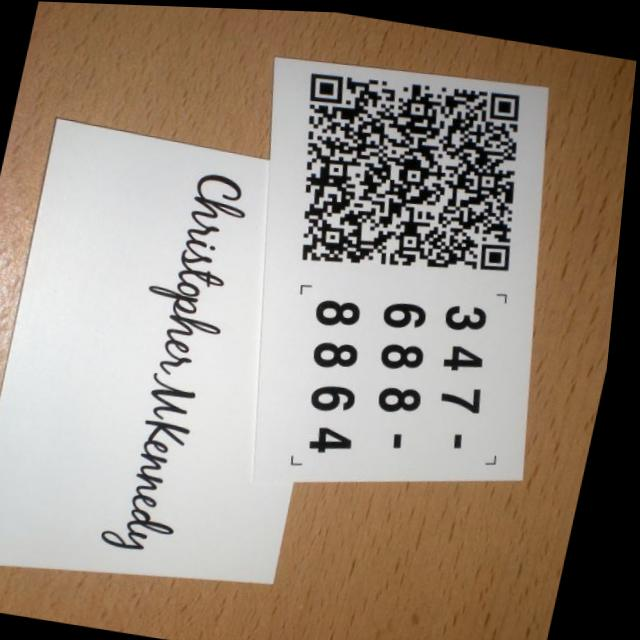qrcode: (274, 61, 549, 290)
